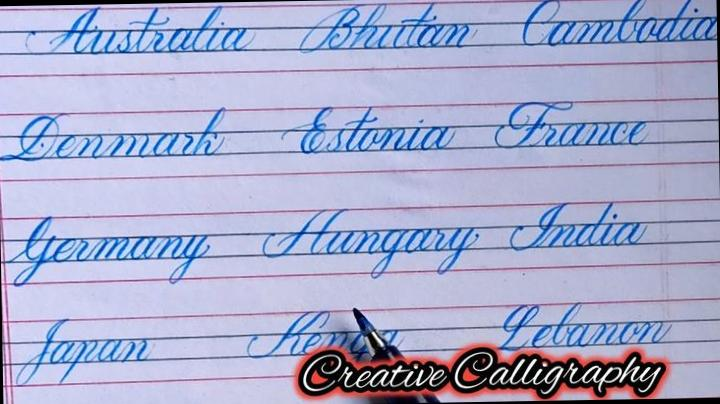text: (12, 298, 677, 391), (0, 197, 651, 289), (0, 95, 650, 164), (20, 0, 717, 59), (295, 342, 666, 404)
